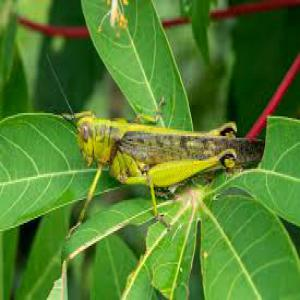locust: (60, 86, 279, 186)
